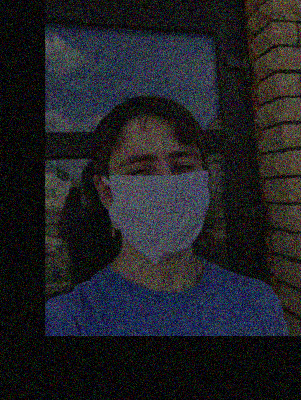with_mask: (102, 134, 209, 266)
